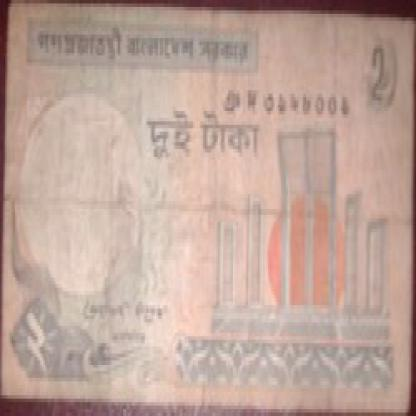two taka: (20, 305, 62, 388), (363, 48, 391, 118)
